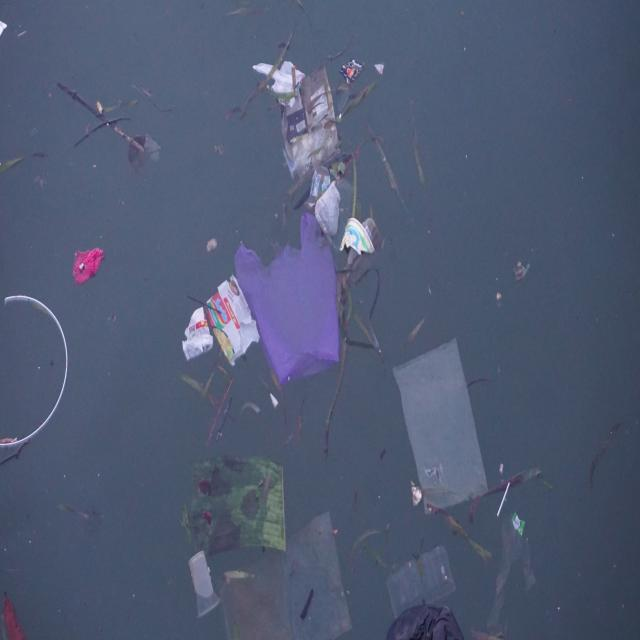Bungkus Makanan: (205, 273, 262, 364), (178, 299, 214, 370)
Bungkus Minuman: (185, 547, 224, 626)
Kantong Plastik: (236, 213, 341, 387), (216, 512, 358, 640), (393, 338, 491, 517), (386, 597, 472, 640), (71, 241, 106, 287)
